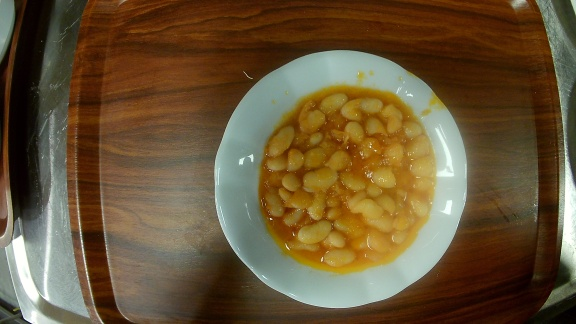kurufasulye: (211, 49, 469, 309)
